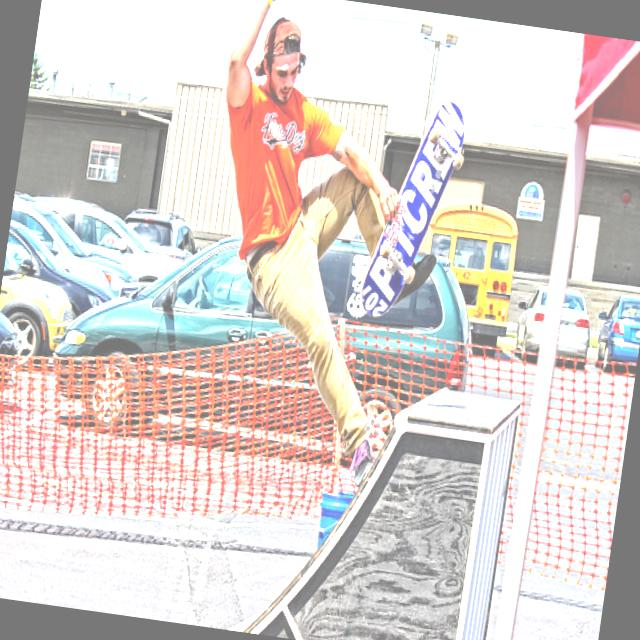Vehicle: (42, 203, 489, 477), (407, 196, 522, 350), (2, 188, 148, 300), (26, 194, 193, 288), (0, 213, 122, 321), (0, 224, 85, 368), (511, 281, 597, 368), (119, 206, 201, 262), (590, 290, 640, 371), (0, 292, 25, 401)
